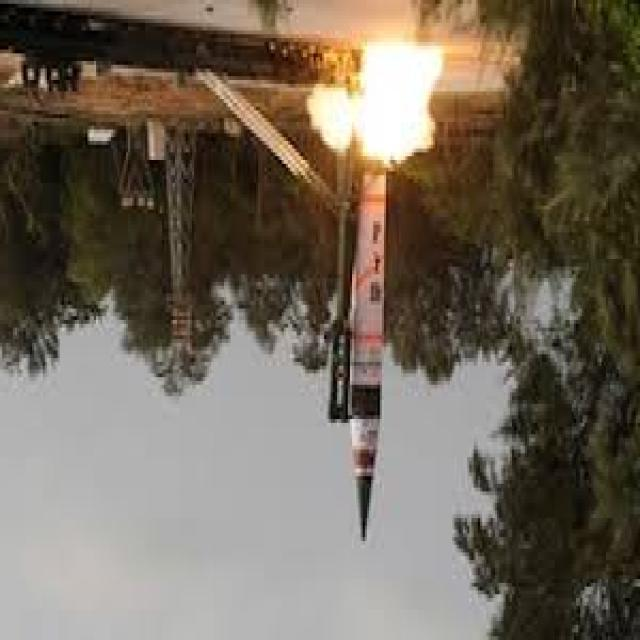Missile: (348, 163, 386, 549)
